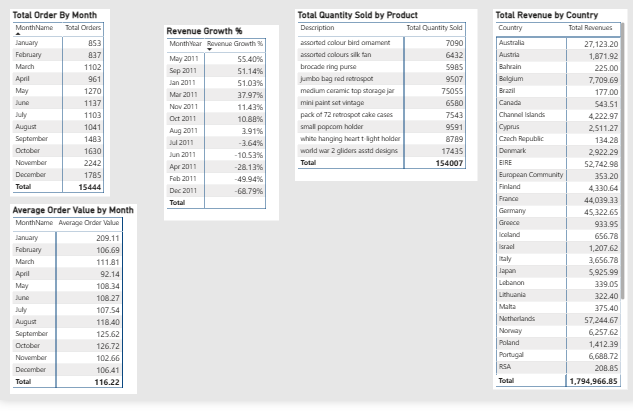

The dashboard page shown, as its layout file describes it:
{"tool":"powerbi","page":{"name":"Pivot Tables","canvas":[1280,800],"ordinal":1},"visuals":[{"type":"pivotTable","title":"Total Order By Month","fields":{"Values":["data.Total Orders"],"Rows":["Date.MonthName"]},"box":[22,18.9,200,374.8],"z":0},{"type":"pivotTable","title":"Total Revenue by Country","fields":{"Rows":["data.Country"],"Values":["data.Total Revenues"]},"box":[987.4,18.9,269.3,760.6],"z":1000},{"type":"pivotTable","title":"Total Quantity Sold by Product","fields":{"Rows":["Products.Description"],"Values":["data.Total Quantity Sold"]},"box":[593,18.5,364.5,344.4],"z":2000},{"type":"pivotTable","title":"Average Order Value by Month","fields":{"Values":["Customers.Average Order Value"],"Rows":["Date.MonthName"]},"box":[22,407.9,253.5,379.5],"z":3000},{"type":"pivotTable","title":"Revenue Growth %","fields":{"Values":["Customers.Revenue Growth %"],"Rows":["Date.MonthYear"]},"box":[329.1,50.4,229.9,390.6],"z":4000}]}

Visuals, with their boxes on the page's 1280x800 design canvas (x1, y1, x2, y2). These are canvas units, not pixel positions in the 633x411 screenshot, which may show the page scaled, cropped or inside an application window:
"Total Order By Month" pivotTable: bbox(22, 19, 222, 394)
"Total Revenue by Country" pivotTable: bbox(987, 19, 1257, 780)
"Total Quantity Sold by Product" pivotTable: bbox(593, 18, 958, 363)
"Average Order Value by Month" pivotTable: bbox(22, 408, 276, 787)
"Revenue Growth %" pivotTable: bbox(329, 50, 559, 441)
